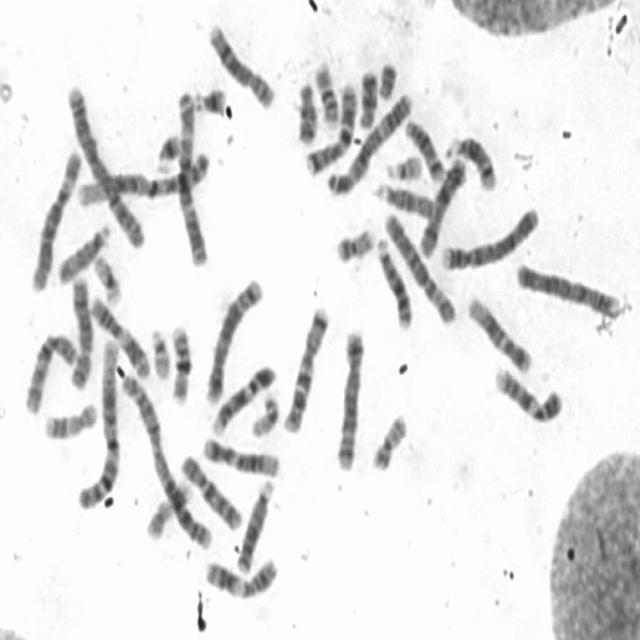A1: (74, 329, 124, 513), (73, 146, 213, 210)
A2: (116, 366, 217, 551), (62, 78, 146, 252)
A3: (322, 85, 414, 197), (171, 81, 211, 268)
B4: (436, 198, 541, 272), (512, 256, 624, 320)
B5: (202, 269, 266, 406), (332, 322, 367, 472)
C10: (177, 448, 244, 532), (19, 324, 79, 417)
C11: (86, 289, 153, 381), (202, 551, 280, 602)
C12: (464, 288, 536, 375), (198, 429, 283, 477)
C6: (379, 203, 458, 327), (29, 142, 84, 292)
C7: (280, 300, 333, 435), (300, 76, 360, 178)
C8: (203, 16, 277, 111), (66, 270, 95, 391)
C9: (208, 356, 278, 436), (491, 359, 565, 425)
D13: (234, 472, 278, 576), (372, 230, 416, 330)
D14: (442, 128, 500, 192), (402, 114, 446, 182)
D15: (53, 217, 113, 286), (372, 175, 438, 220)
E16: (167, 317, 194, 407), (311, 54, 342, 130)
E17: (142, 475, 192, 541), (40, 394, 100, 442)
E18: (292, 76, 320, 147), (355, 63, 380, 129)
F19: (89, 248, 124, 306), (247, 387, 281, 439)
F20: (367, 406, 411, 474), (332, 221, 377, 264)
G21: (152, 124, 184, 174), (190, 79, 229, 116)
G22: (147, 321, 173, 381), (382, 146, 424, 182)
X: (414, 151, 469, 260)
Y: (375, 56, 399, 101)
